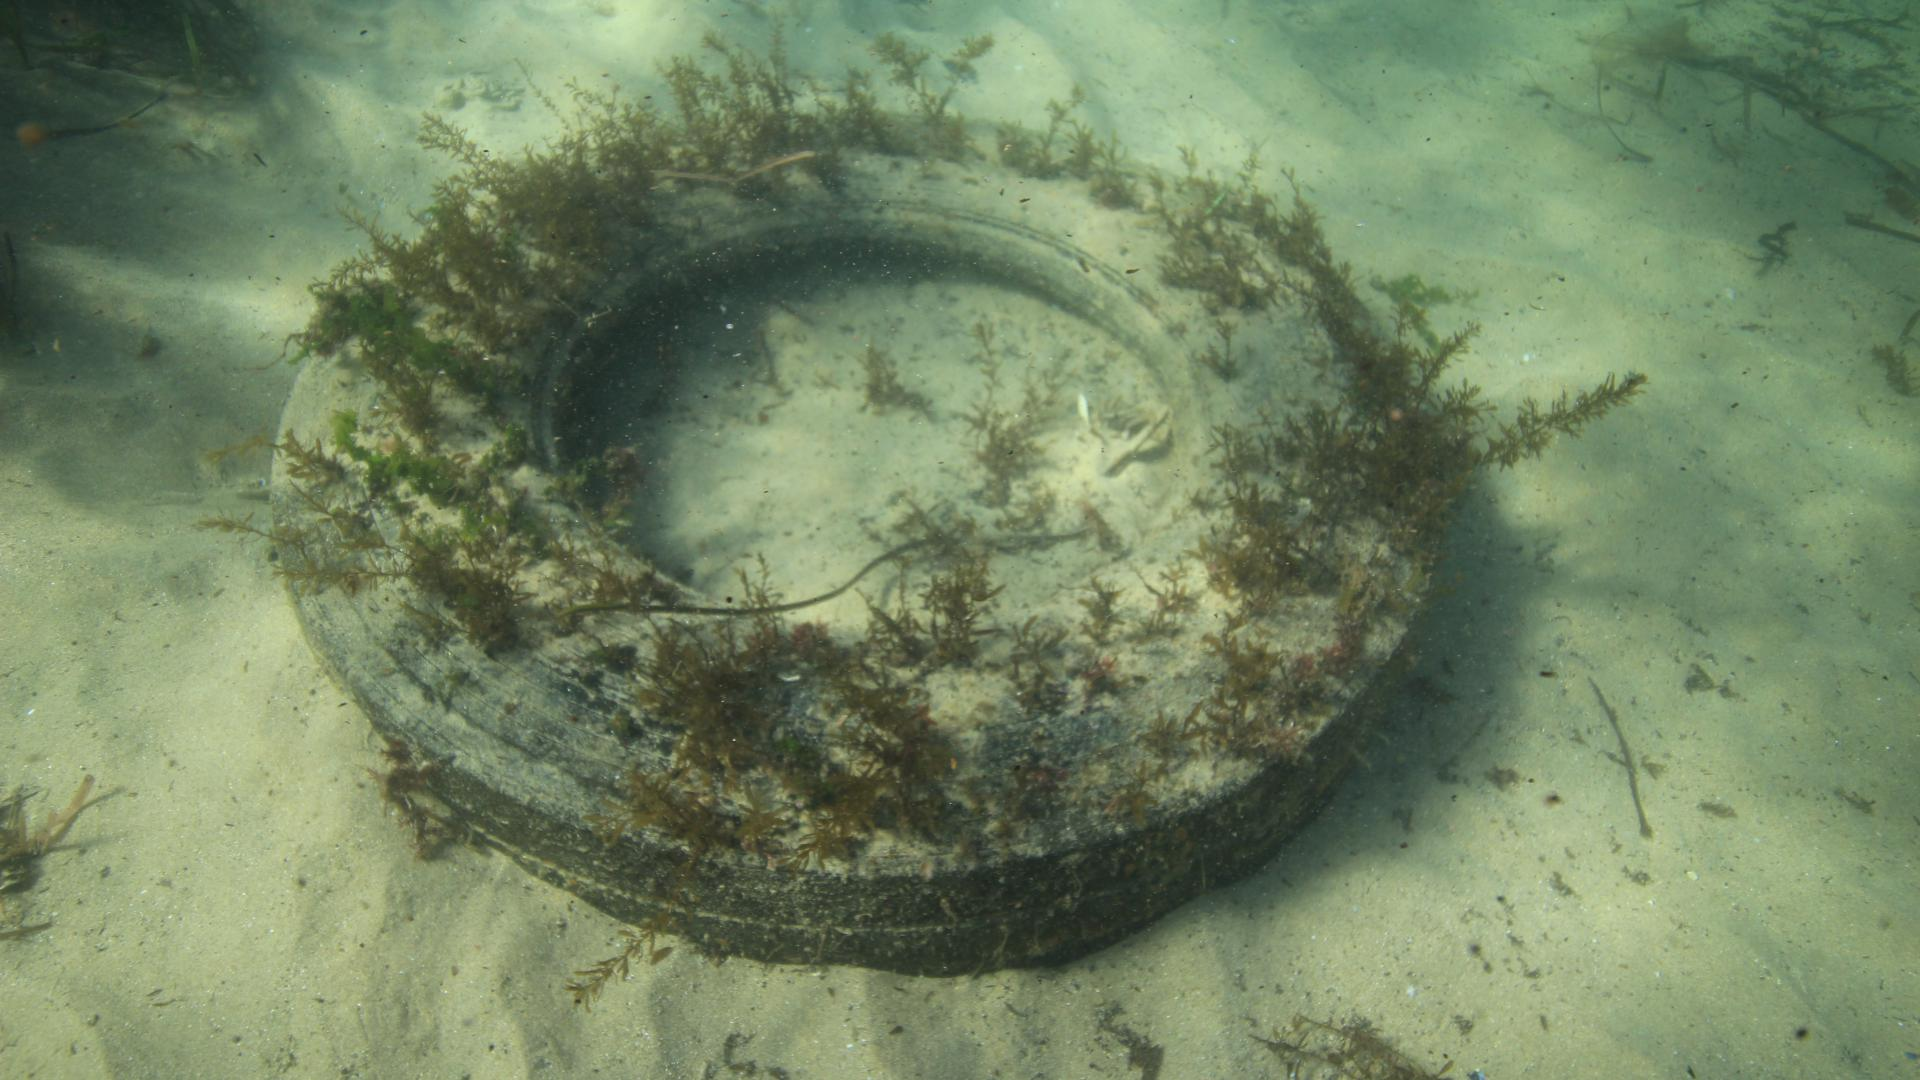tire: (269, 108, 1445, 973)
